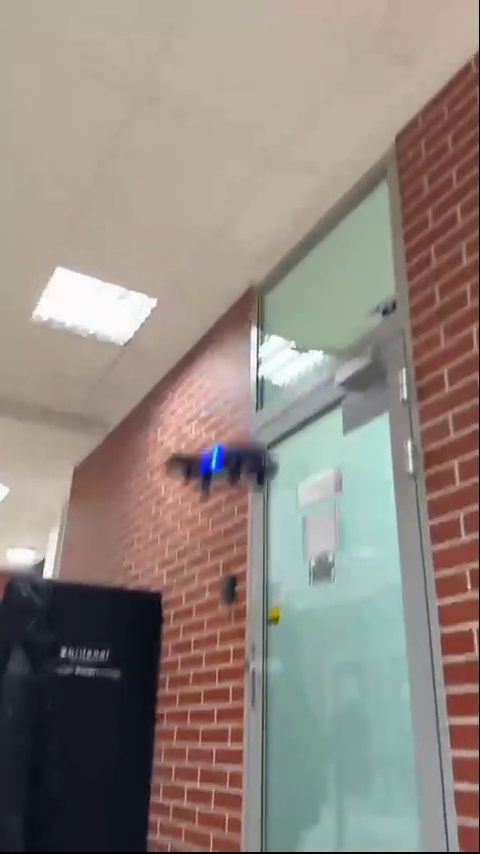drone: (161, 439, 276, 496)
